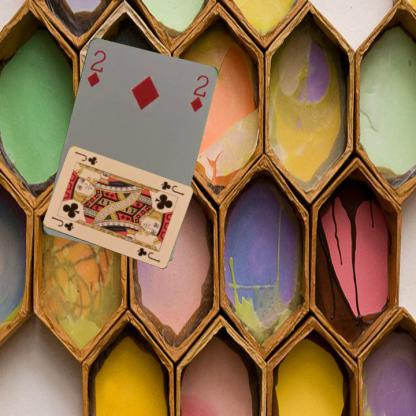2d: (83, 47, 108, 88)
Jc: (158, 179, 185, 197), (48, 214, 74, 232)
